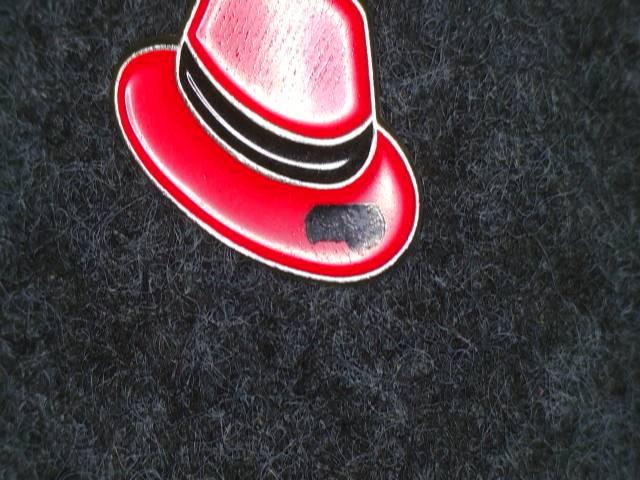Red-Hat: (109, 0, 444, 300)
Scratch: (275, 185, 406, 267)
